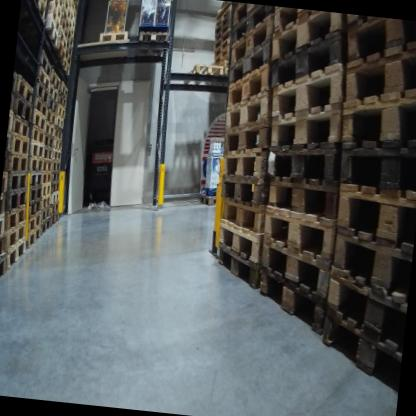pallet: (322, 251, 411, 358), (314, 306, 405, 394), (327, 178, 416, 257), (340, 31, 416, 122), (335, 78, 416, 162), (264, 103, 342, 188), (254, 261, 333, 342), (327, 224, 413, 296), (269, 61, 342, 135), (254, 244, 332, 312), (334, 128, 416, 192), (257, 203, 337, 261), (338, 18, 416, 75), (273, 30, 346, 90), (259, 178, 339, 232), (269, 9, 342, 68), (225, 11, 274, 72), (225, 38, 274, 94), (225, 62, 271, 121), (208, 240, 261, 291), (211, 221, 266, 267), (214, 192, 270, 237), (226, 86, 269, 138), (217, 164, 268, 207), (223, 143, 270, 182), (230, 3, 271, 47), (226, 114, 272, 150), (133, 25, 170, 65), (181, 60, 225, 93), (268, 8, 318, 36), (0, 218, 28, 256), (2, 235, 29, 273), (94, 24, 130, 50), (2, 198, 30, 230), (5, 165, 30, 197), (12, 94, 35, 126), (3, 188, 28, 216), (41, 12, 60, 48), (36, 46, 55, 81), (14, 71, 34, 104), (11, 107, 33, 137), (32, 77, 52, 108), (21, 226, 42, 255), (8, 130, 31, 156), (27, 0, 48, 27), (229, 5, 254, 27), (7, 152, 29, 175), (25, 207, 43, 234), (46, 3, 62, 33), (58, 5, 74, 35), (30, 106, 48, 132), (26, 193, 44, 219), (31, 92, 50, 116), (214, 19, 233, 42), (213, 4, 232, 27), (55, 25, 71, 52), (53, 39, 68, 67), (38, 64, 53, 91), (27, 179, 43, 204), (215, 10, 232, 33), (27, 138, 44, 161), (29, 121, 46, 143), (27, 154, 44, 176), (214, 29, 232, 49), (27, 166, 44, 187), (0, 253, 9, 292), (212, 50, 230, 69), (216, 36, 232, 57), (47, 82, 63, 103), (41, 129, 57, 148), (66, 18, 79, 41), (47, 0, 63, 18), (59, 12, 69, 40), (44, 119, 58, 138), (60, 0, 71, 24), (47, 96, 59, 118), (50, 69, 63, 89), (39, 204, 52, 223), (0, 193, 10, 217), (40, 181, 52, 201), (59, 79, 71, 99), (42, 143, 56, 160), (41, 159, 54, 177), (52, 122, 65, 140), (65, 28, 76, 49), (70, 4, 79, 29), (52, 133, 63, 153), (41, 167, 53, 185), (57, 92, 69, 110), (39, 218, 51, 235), (0, 230, 6, 262), (53, 112, 65, 128), (0, 216, 7, 243), (40, 195, 51, 212), (52, 155, 63, 172), (65, 40, 75, 58), (46, 109, 56, 127), (49, 0, 65, 11), (64, 51, 74, 68), (48, 181, 61, 194), (8, 109, 15, 133), (12, 70, 20, 91), (55, 104, 67, 118), (1, 171, 8, 194), (63, 58, 71, 78), (49, 200, 62, 212), (62, 0, 73, 14), (4, 151, 11, 173), (10, 91, 18, 110), (51, 212, 61, 227), (50, 171, 61, 184), (71, 2, 79, 18), (53, 149, 61, 163), (7, 132, 12, 151), (72, 0, 81, 9), (50, 192, 60, 200), (36, 0, 48, 6)
